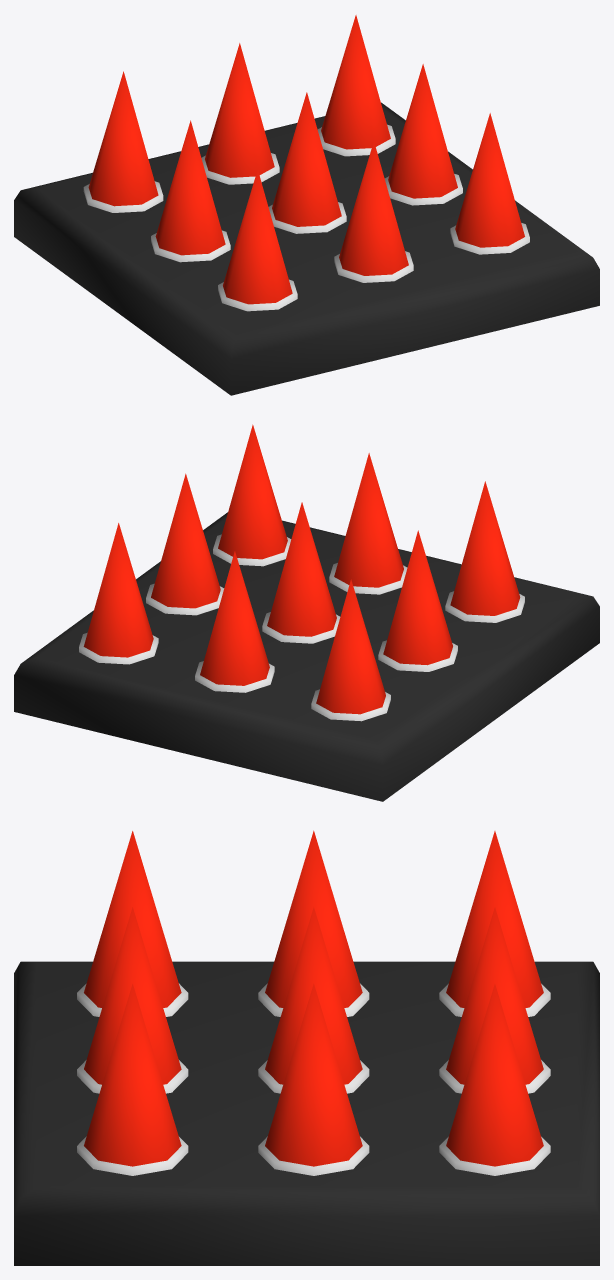
Rendered from thorns.fbx.
3 views of the same model, one above another, from view 1: azimuth 30°, elevation 25°; view 2: azimuth 150°, elevation 25°; view 3: azimuth 270°, elevation 25° (orthographic). The views are drawn at different scales.
Parts seen in each view (by area): view 1: spike-obstacle, spike-obstacle.002; view 2: spike-obstacle, spike-obstacle.002; view 3: spike-obstacle, spike-obstacle.002.
Part boxes in pixels (x1=…): spike-obstacle: x1=14, y1=102, x2=599, y2=395; spike-obstacle.002: x1=88, y1=15, x2=524, y2=304; spike-obstacle: x1=14, y1=512, x2=599, y2=801; spike-obstacle.002: x1=83, y1=424, x2=520, y2=714; spike-obstacle: x1=14, y1=961, x2=599, y2=1265; spike-obstacle.002: x1=84, y1=830, x2=543, y2=1166.
Size of the model in its own units: 231 by 106 by 236.
